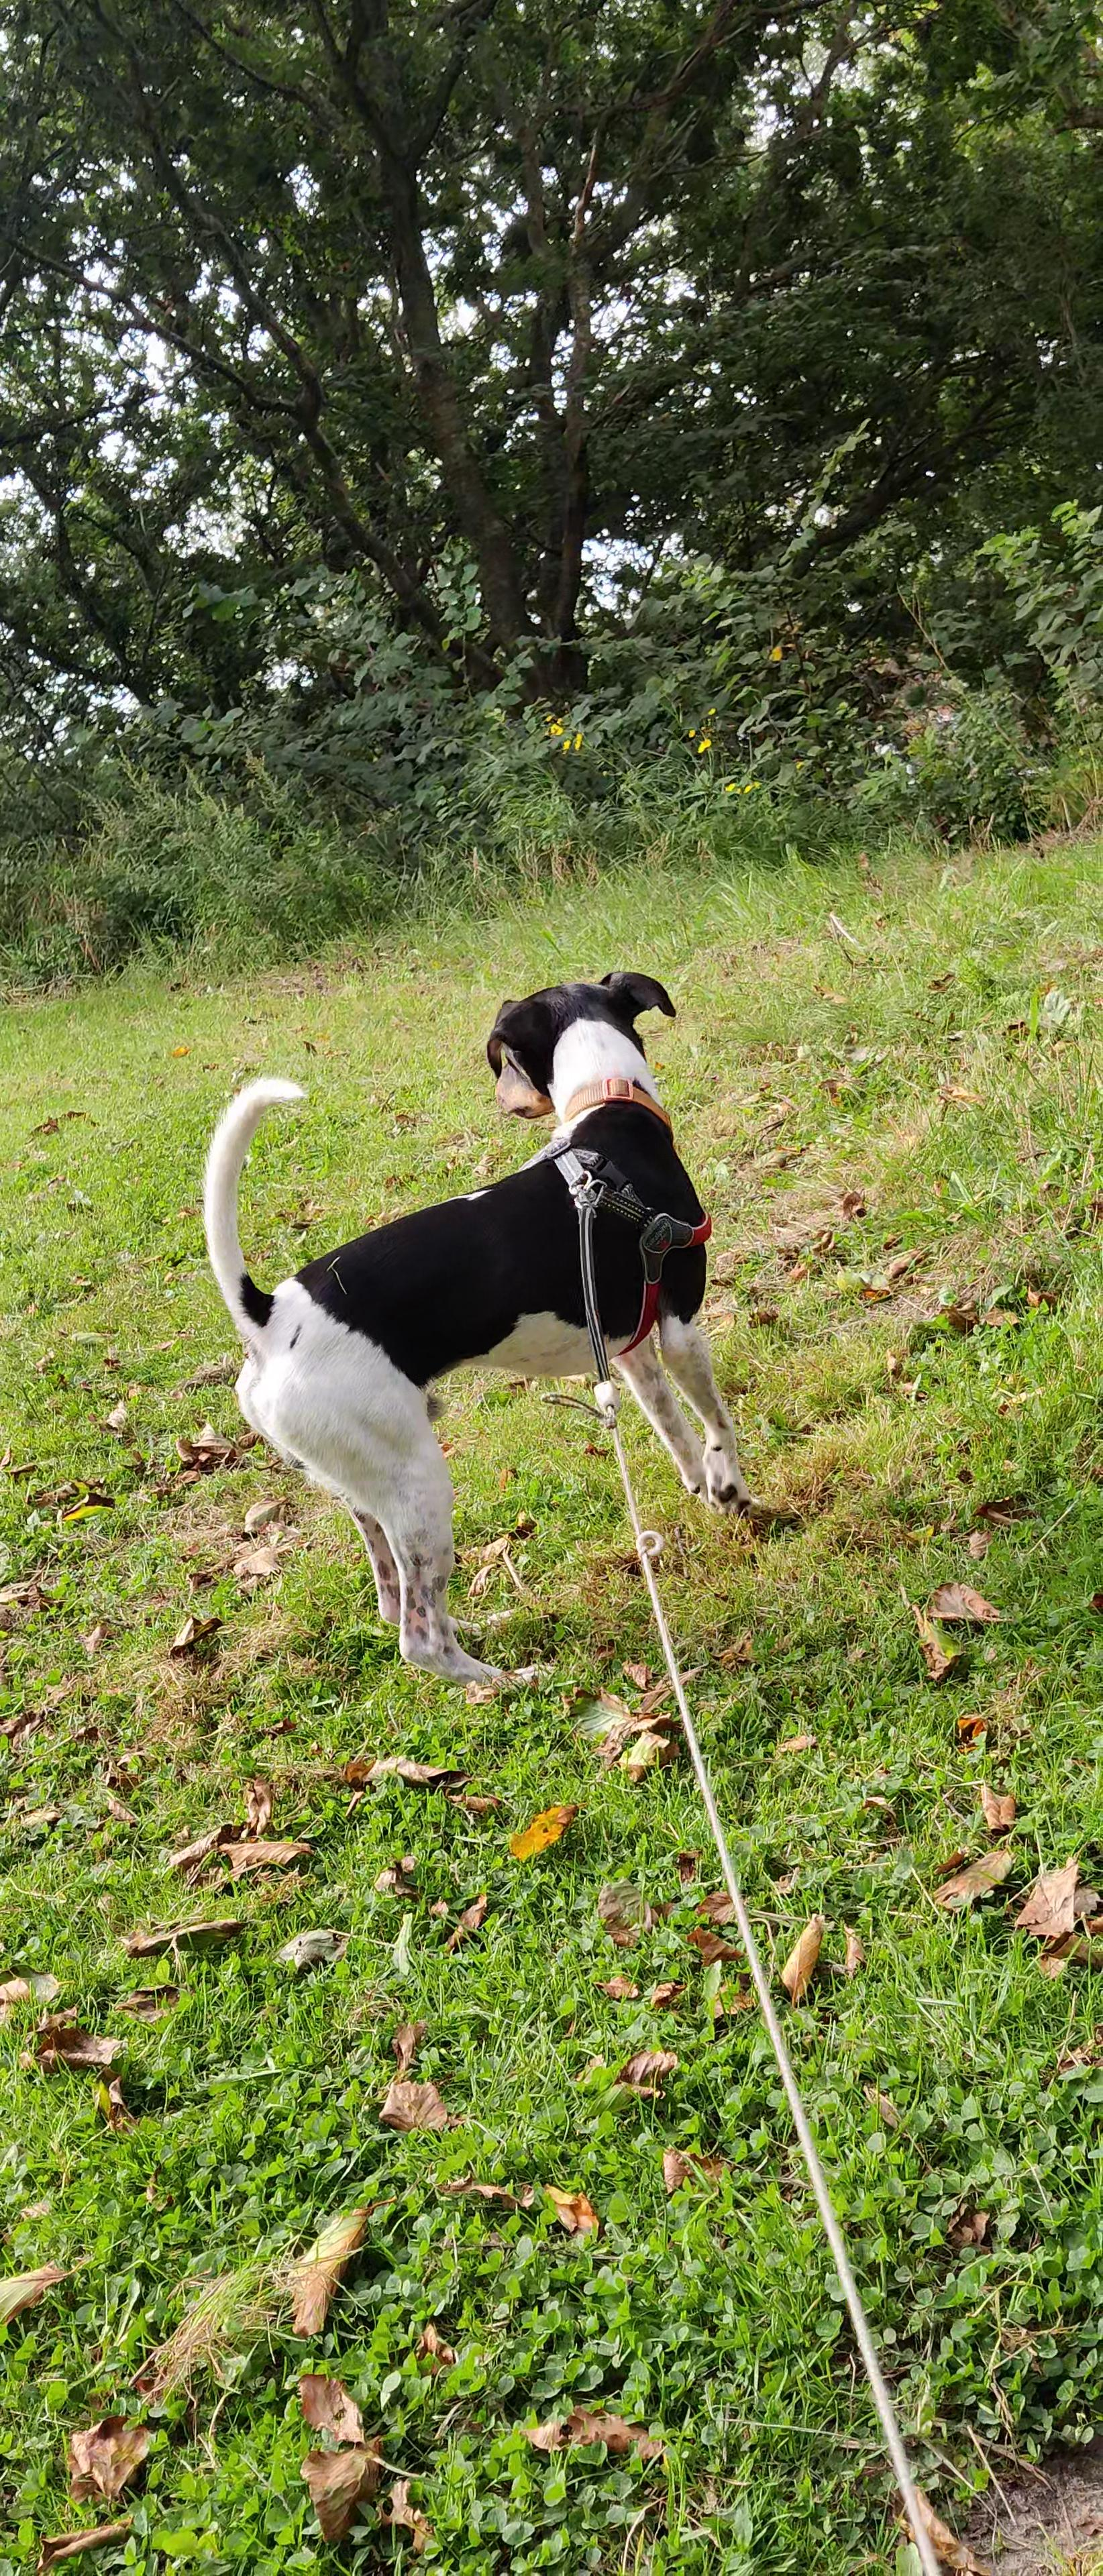Dog: (197, 968, 758, 1694)
